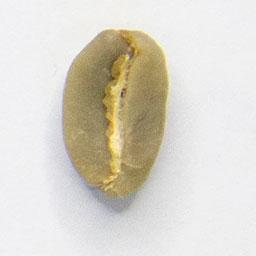longberry: (58, 25, 173, 202)
